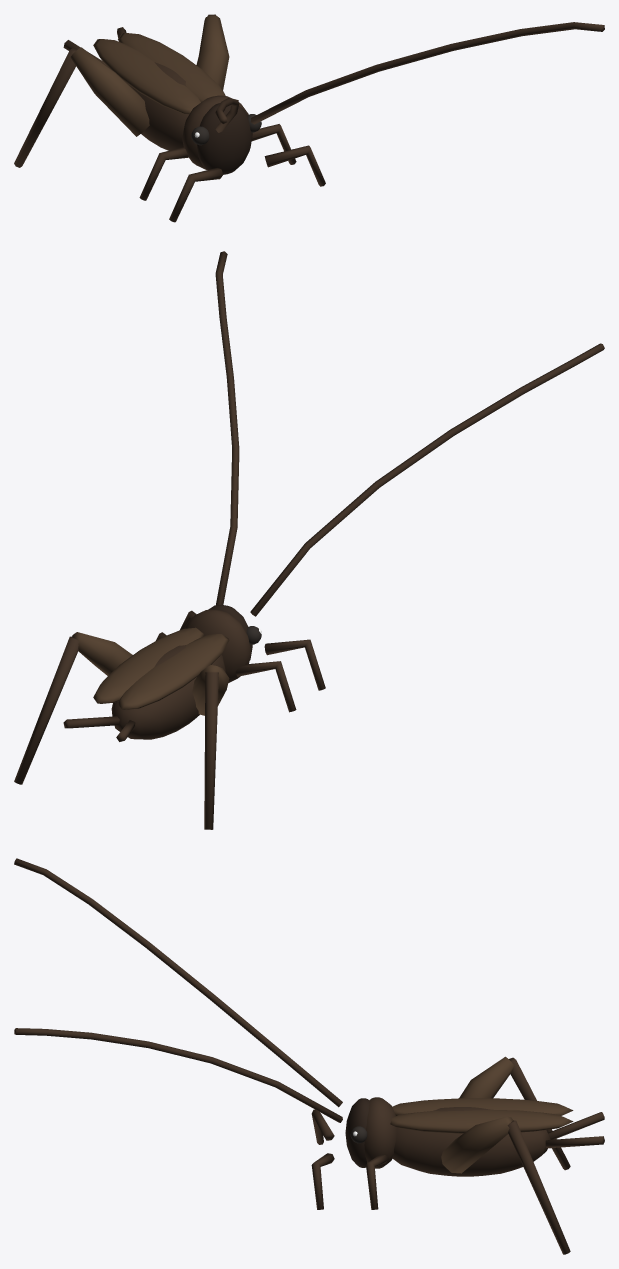
File: bug-cricket.glb
The picture shows the model from 3 angles, top to bottom: view 1: azimuth 30°, elevation 25°; view 2: azimuth 150°, elevation 25°; view 3: azimuth 270°, elevation 25°; orthographic projection. The views are drawn at different scales.
Parts seen in each view (by area): view 1: bug; view 2: bug; view 3: bug.
Boxes of the visible parts, x1,y1,x2,y2 form: bug: (14, 14, 604, 222); bug: (14, 251, 604, 829); bug: (14, 858, 604, 1254).
Size of the model in its own units: 0.2349 by 0.1703 by 0.3399.
